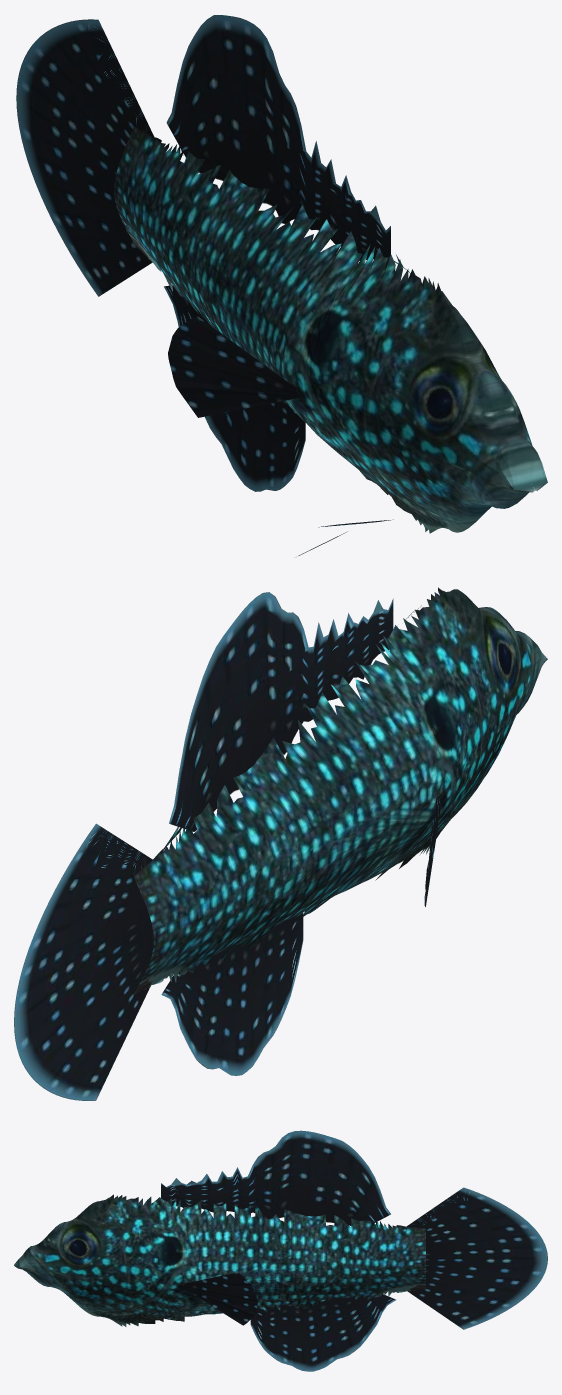
Rendered from pygmy.lo.glb.
The picture shows the model from 3 angles, top to bottom: view 1: azimuth 30°, elevation 25°; view 2: azimuth 150°, elevation 25°; view 3: azimuth 270°, elevation 25°; orthographic projection. The views are drawn at different scales.
Parts seen in each view (by area): view 1: body, fin (×4); view 2: body, fin (×3); view 3: body, fin (×4).
Part boxes in pixels (x1,y1,x2,y2): body: (114, 126, 547, 533); fin (×4): (16, 15, 390, 491); body: (134, 587, 547, 994); fin (×3): (14, 592, 393, 1100); body: (14, 1194, 425, 1326); fin (×4): (161, 1130, 547, 1371).
Bounding box in the file's own units: 0.00871 × 0.0158 × 0.0301.
1 material, 1 textured.
